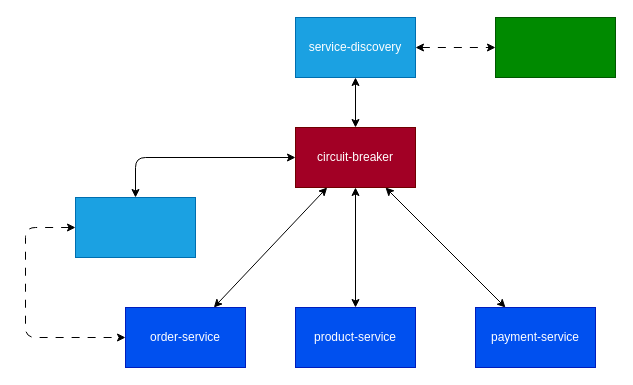
Some shapes in this 633 by 385 pixel diagram are drawn without their labels. Each missing label, with the centre of its shape:
"api-gateway" belongs at point (135, 227).
"spring-boot-admin" belongs at point (555, 47).
